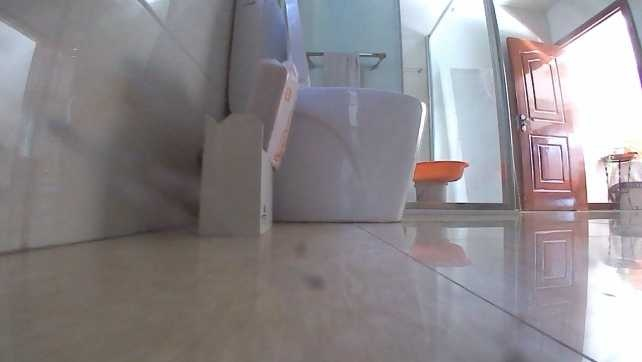toilet: (225, 0, 429, 224)
